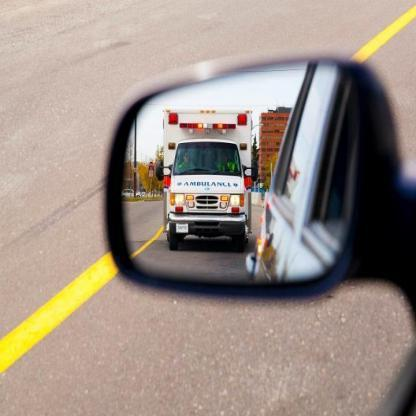Ambulance - v1 Ambulance last generate: (158, 102, 258, 251)
